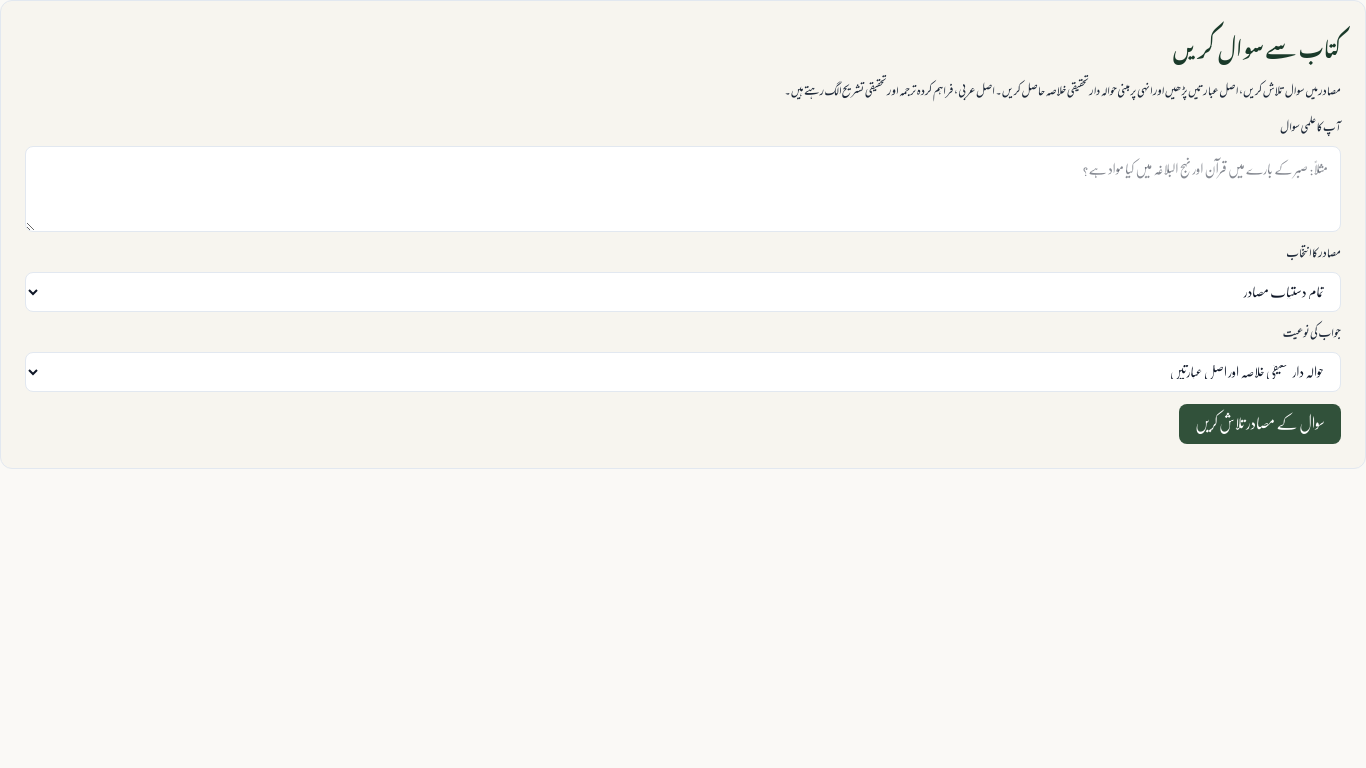
Test case: spaces the original-source action and the Digital Khatt reader link in a wrapped RTL row
Type "والدین کا احترام" into the text box at (683,189), box [25,146,1341,232]
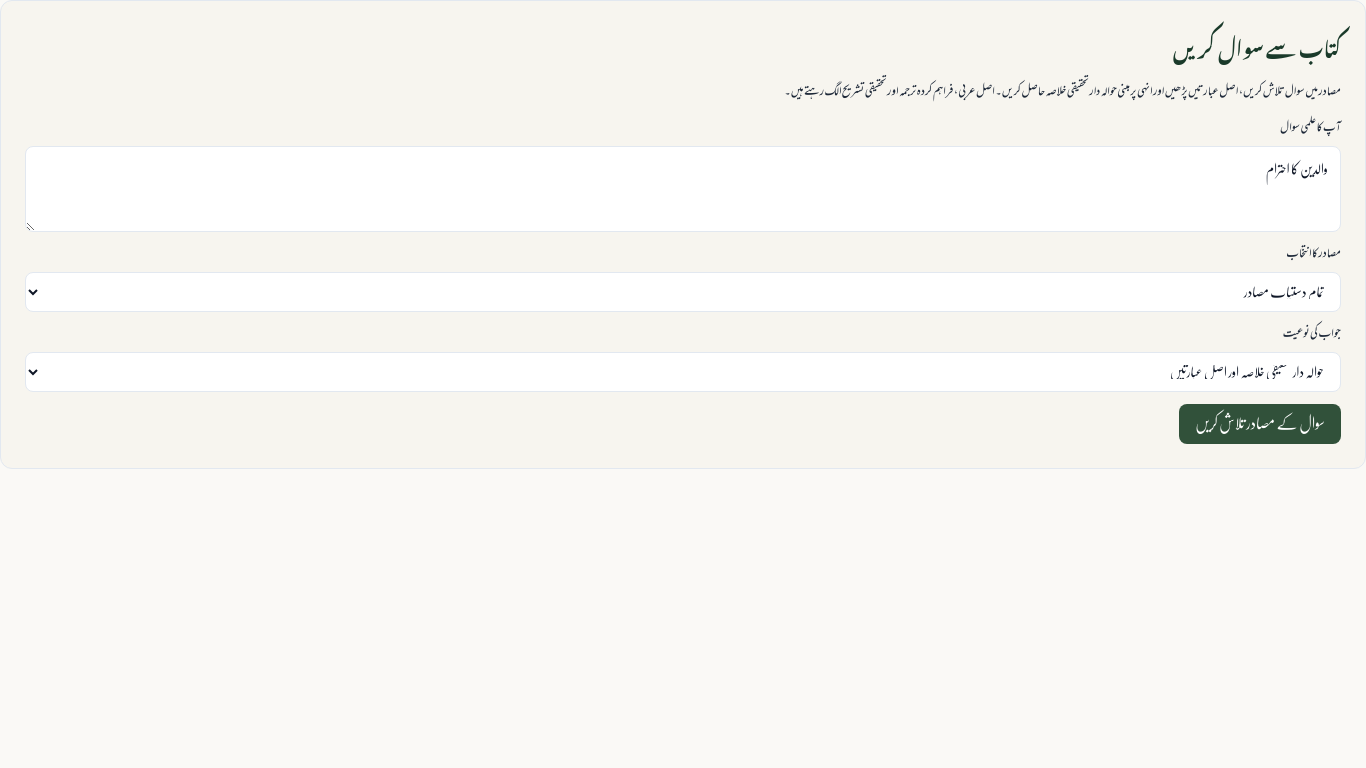
Click the button "سوال کے مصادر تلاش کریں" at (1260,424), box [1179,404,1341,444]
(page scrolled)
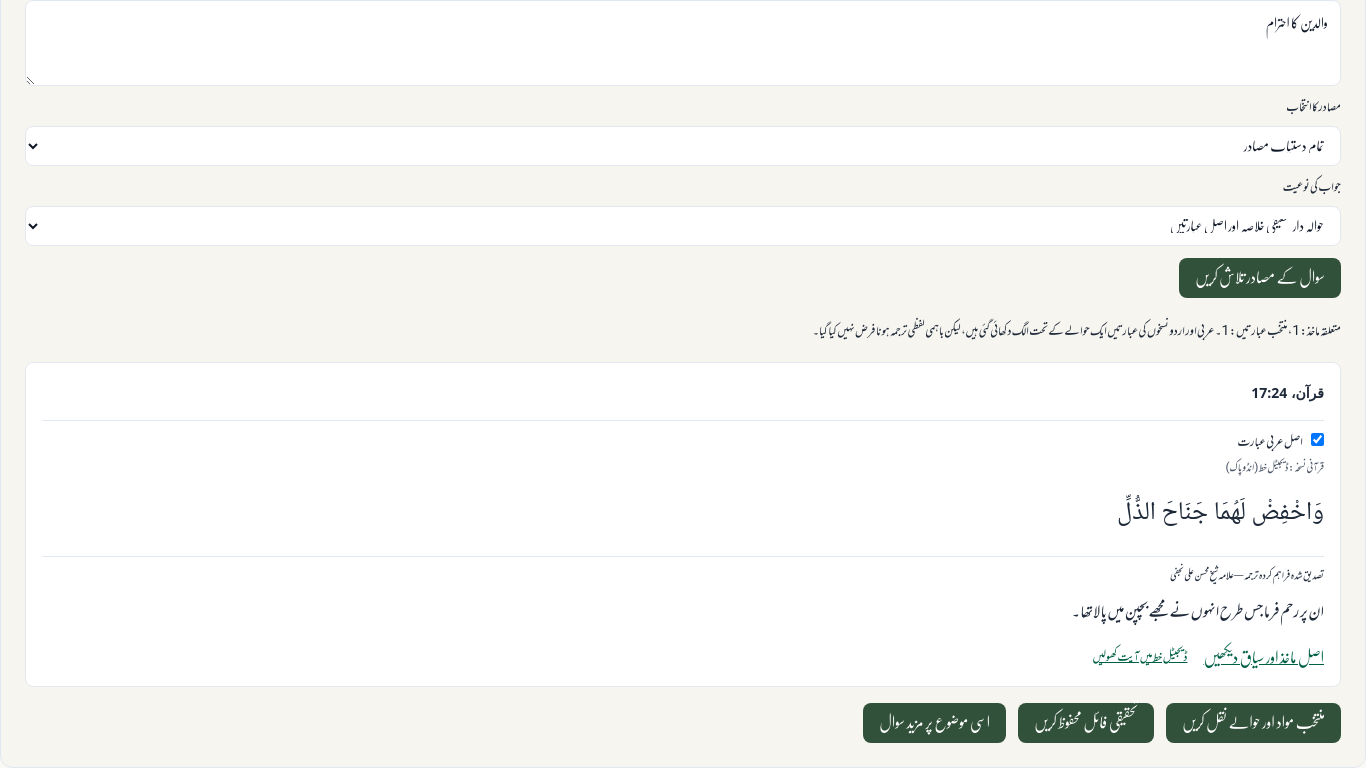
Check: the element "اصل ماخذ اور سیاق دیکھیں" is shown, box [1092,646,1324,670]
